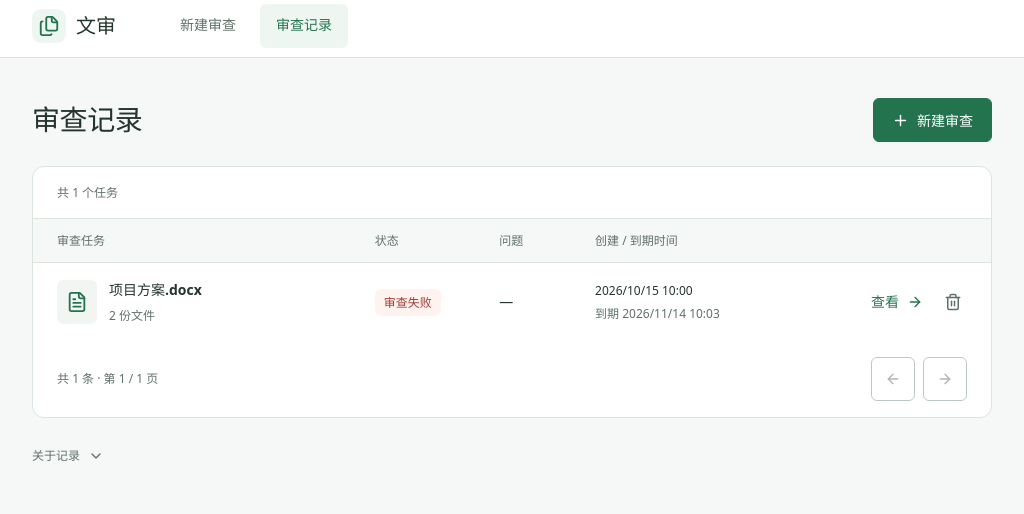
it: review workspace › hides current issue counts for failed history tasks and keeps identity explanation in About
Check: the text "—" is shown, box [499,292,513,311]
Check: the text "记录仅对当前浏览器可见" is not shown
Click the heading "关于记录" at (68, 456), box [32,447,104,464]
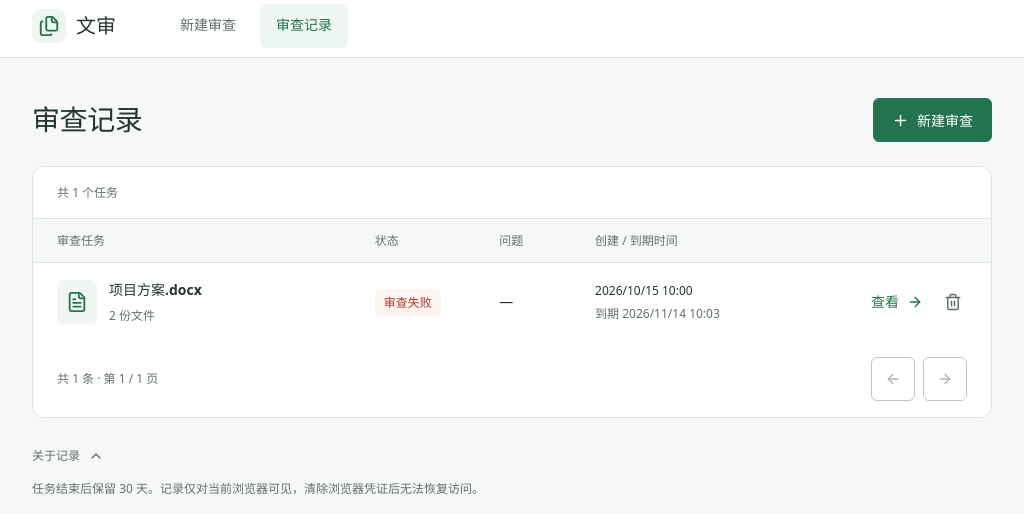
Check: the text "任务结束后保留 30 天。记录仅对当前浏览器可见，清除浏览器凭证后无法恢复访问。" is shown, box [32,480,484,497]
